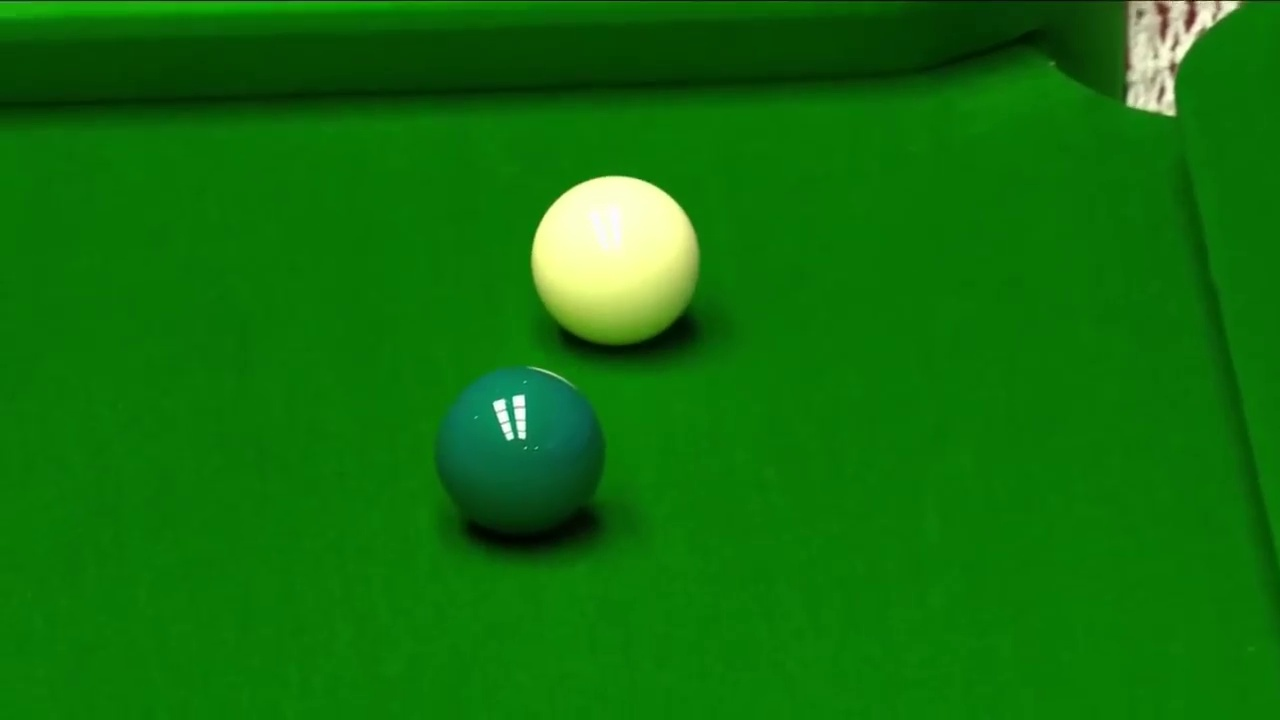green: (427, 366, 604, 543)
white: (522, 173, 704, 353)
